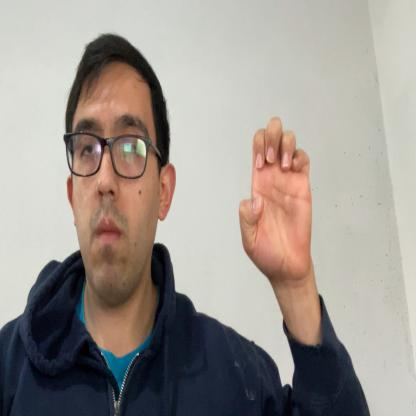E: (239, 114, 312, 278)
